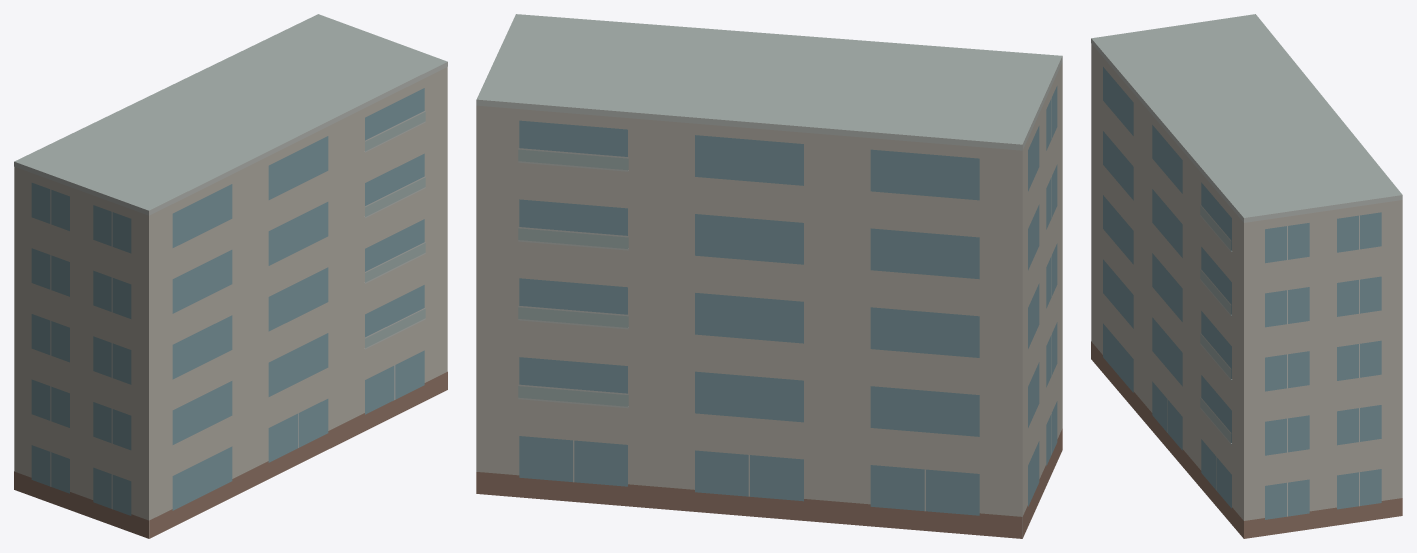
File: survey-upis-32863969.glb
The picture shows the model from 3 angles, left to right: view 1: azimuth 30°, elevation 25°; view 2: azimuth 150°, elevation 25°; view 3: azimuth 270°, elevation 25°; orthographic projection. The views are drawn at different scales.
Visible parts, largest first — view 1: survey-upis-32863969.tmp; view 2: survey-upis-32863969.tmp; view 3: survey-upis-32863969.tmp.
Boxes of the visible parts, x1,y1,x2,y2 form: survey-upis-32863969.tmp: [14, 14, 447, 538]; survey-upis-32863969.tmp: [476, 14, 1062, 538]; survey-upis-32863969.tmp: [1091, 14, 1402, 538].
Size of the model in its own units: 21.83 by 16 by 14.09.
